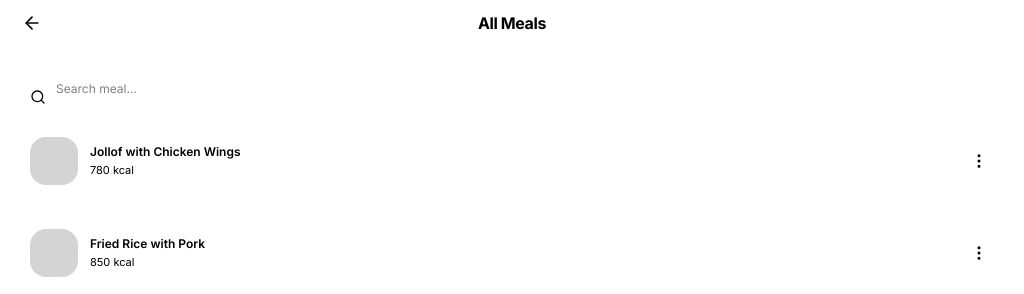
Test: Meal Component › filters meals by search query
Expected: the text "Jollof with Chicken Wings" is shown, [90,144,240,158]
Expected: the text "Fried Rice with Pork" is shown, [90,236,205,250]
Type query to filter
In the field with placeholder "Search meal...": point(512, 89) [16,71,1008,107], type "jollof"
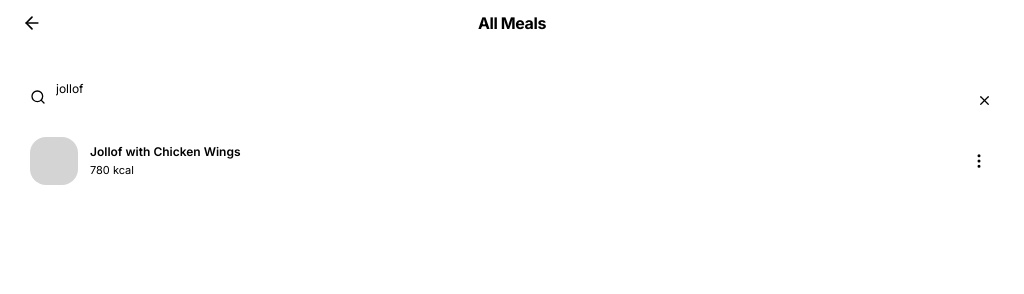
Expected: the text "Jollof with Chicken Wings" is shown, [90,144,240,158]
Expected: the text "Fried Rice with Pork" is gone
Clear search using clear button
Click the button named "clear search": point(984, 100) [973,89,996,112]
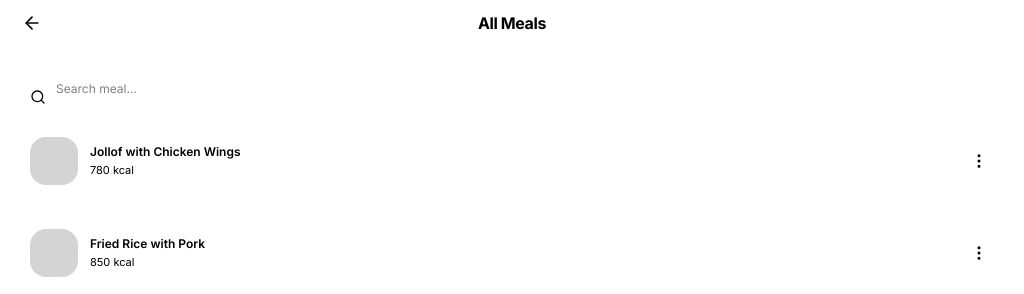
Expected: the text "Jollof with Chicken Wings" is shown, [90,144,240,158]
Expected: the text "Fried Rice with Pork" is shown, [90,236,205,250]
